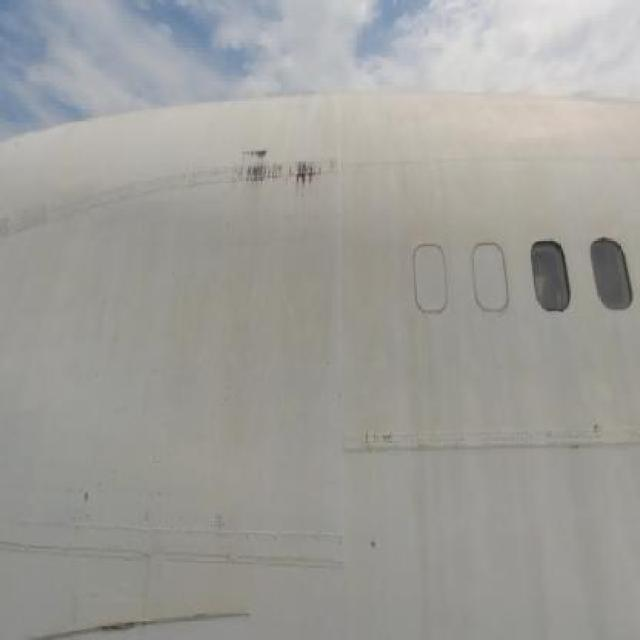Rust: (218, 131, 347, 204)
Scartch: (582, 418, 604, 442)
